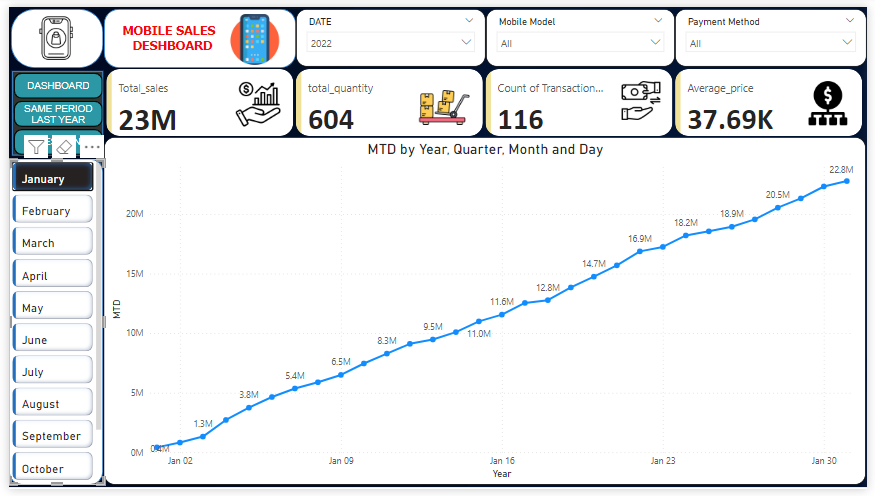

The page's visual inventory and layout, read from the dashboard file:
{"tool":"powerbi","page":{"name":"MTD REPORT","canvas":[1280,720],"ordinal":1},"visuals":[{"type":"shape","box":[2.8,2.8,137.5,87.9],"z":0},{"type":"image","box":[32.6,8.5,75.1,75.1],"z":1000},{"type":"shape","box":[0,226.8,140.3,486.1],"z":2000},{"type":"advancedSlicerVisual","fields":{"Values":["custom_calender.date.Variation.Date Hierarchy.Month"]},"box":[0,226.8,143.1,486.1],"z":3000},{"type":"cardVisual","fields":{"Data":["sales_data.Total_sales","sales_data.total_quantity","CountNonNull(sales_data.Transaction ID)","sales_data.Average_price"]},"box":[140.3,92.1,1138.1,100.6],"z":4000},{"type":"slicer","fields":{"Values":["custom_calender.date.Variation.Date Hierarchy.Year","custom_calender.date.Variation.Date Hierarchy.Quarter","custom_calender.date.Variation.Date Hierarchy.Month","custom_calender.date.Variation.Date Hierarchy.Day"]},"box":[428,2.8,283.5,86.5],"z":5000},{"type":"slicer","fields":{"Values":["sales_data.Mobile Model"]},"box":[711.5,2.8,282,86.5],"z":6000},{"type":"slicer","fields":{"Values":["sales_data.Payment Method"]},"box":[993.5,2.8,286.3,86.5],"z":7000},{"type":"shape","box":[141.7,2.8,286.3,87.9],"z":8000},{"type":"image","box":[324.6,1.4,86.5,93.5],"z":9000},{"type":"textbox","box":[158.7,18.4,165.8,58.1],"z":10000},{"type":"lineChart","fields":{"Category":["custom_calender.date.Variation.Date Hierarchy.Year","custom_calender.date.Variation.Date Hierarchy.Quarter","custom_calender.date.Variation.Date Hierarchy.Month","custom_calender.date.Variation.Date Hierarchy.Day"],"Y":["sales_data.MTD"]},"box":[141.7,194.2,1136.7,518.7],"z":11000},{"type":"pageNavigator","box":[4.3,95,136.1,126.1],"z":12000}]}

Visuals, with their boxes in screenshot pixels (x1, y1, x2, y2):
shape: pyautogui.locateOnScreen(6, 6, 99, 66)
image: pyautogui.locateOnScreen(27, 10, 77, 61)
shape: pyautogui.locateOnScreen(5, 157, 99, 485)
advancedSlicerVisual - custom_calender.date.Variation.Date Hierarchy.Month: pyautogui.locateOnScreen(5, 157, 101, 485)
cardVisual - sales_data.Total_sales x sales_data.total_quantity: pyautogui.locateOnScreen(99, 67, 866, 134)
slicer - custom_calender.date.Variation.Date Hierarchy.Year x custom_calender.date.Variation.Date Hierarchy.Quarter: pyautogui.locateOnScreen(293, 6, 484, 65)
slicer - sales_data.Mobile Model: pyautogui.locateOnScreen(484, 6, 674, 65)
slicer - sales_data.Payment Method: pyautogui.locateOnScreen(674, 6, 867, 65)
shape: pyautogui.locateOnScreen(100, 6, 293, 66)
image: pyautogui.locateOnScreen(223, 6, 282, 69)
textbox: pyautogui.locateOnScreen(112, 17, 223, 56)
lineChart - custom_calender.date.Variation.Date Hierarchy.Year x custom_calender.date.Variation.Date Hierarchy.Quarter: pyautogui.locateOnScreen(100, 135, 866, 485)
pageNavigator: pyautogui.locateOnScreen(7, 69, 99, 154)
